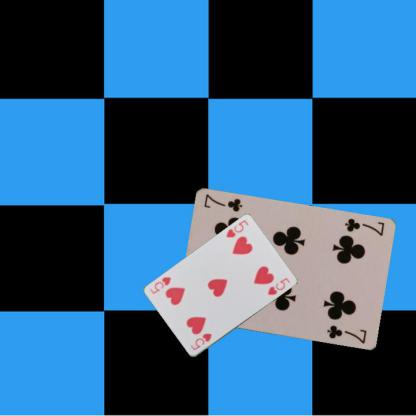5h: (224, 218, 250, 240), (188, 331, 213, 352)
7c: (341, 216, 386, 238)
